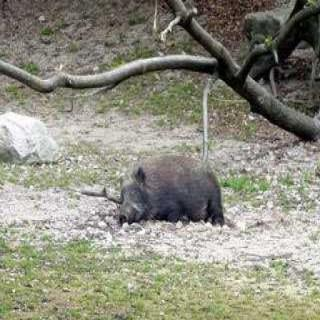Pig: (84, 135, 220, 243)
